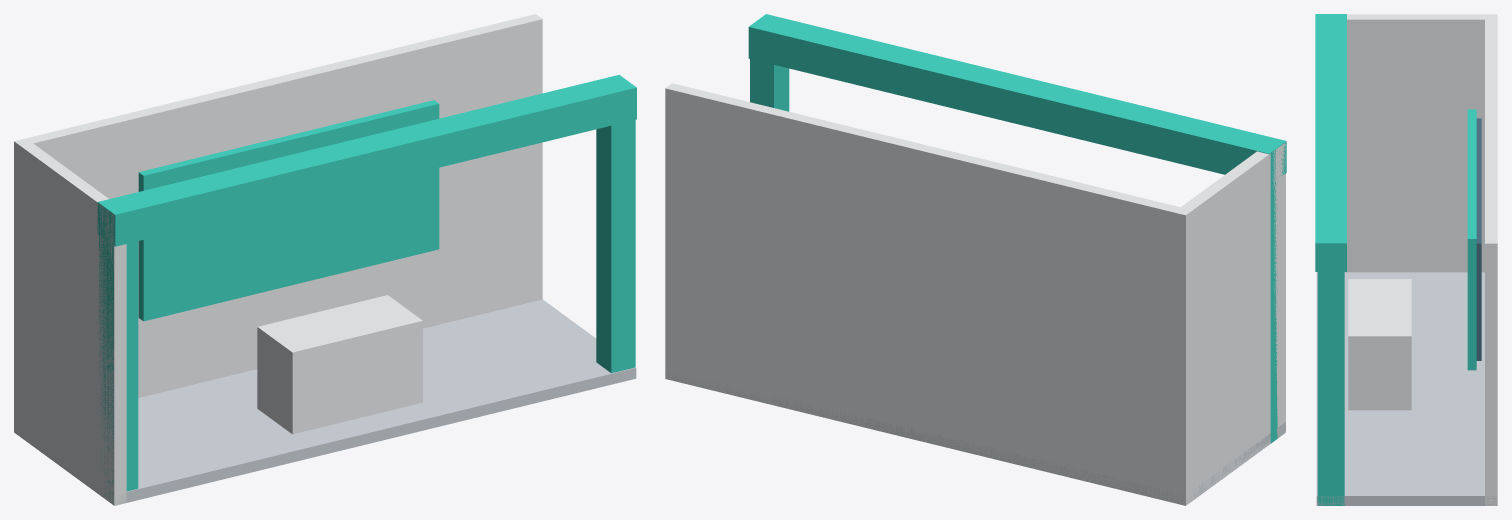
3 views of the same model, side by side, from view 1: azimuth 30°, elevation 25°; view 2: azimuth 150°, elevation 25°; view 3: azimuth 270°, elevation 25° (orthographic). The views are drawn at different scales.
Parts seen in each view (by area): view 1: Exhibition Booth Concept; view 2: Exhibition Booth Concept; view 3: Exhibition Booth Concept.
Part boxes in pixels (bbox=[...]): Exhibition Booth Concept: bbox=[14, 14, 636, 505]; Exhibition Booth Concept: bbox=[665, 14, 1286, 505]; Exhibition Booth Concept: bbox=[1315, 14, 1497, 505].
Bounding box in the file's own units: 6 × 3.2 × 2.01.
